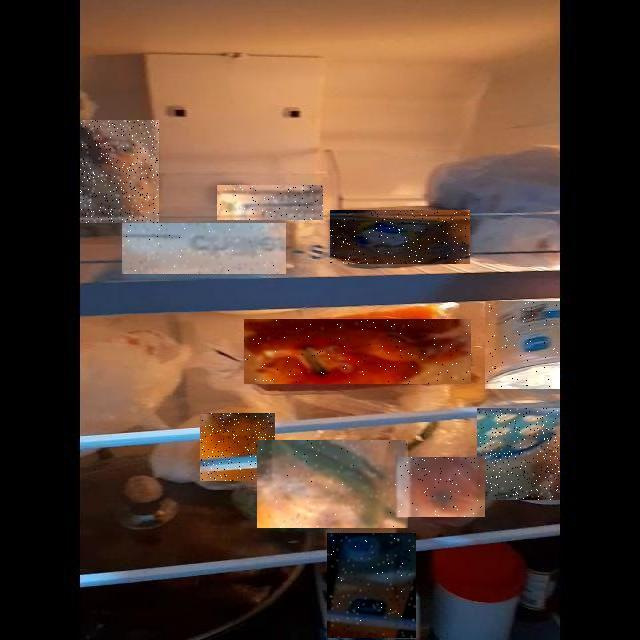Bread: (80, 120, 159, 223)
Butter: (331, 210, 471, 264)
Carrot: (244, 319, 471, 384)
Cheese: (123, 223, 287, 274)
Chillies: (258, 440, 410, 528)
Lemon: (200, 413, 275, 481)
Milk: (327, 533, 416, 638)
Tomato Paste: (399, 457, 485, 517)
Yoghurt: (477, 408, 560, 500), (485, 301, 560, 389), (217, 185, 323, 220)
